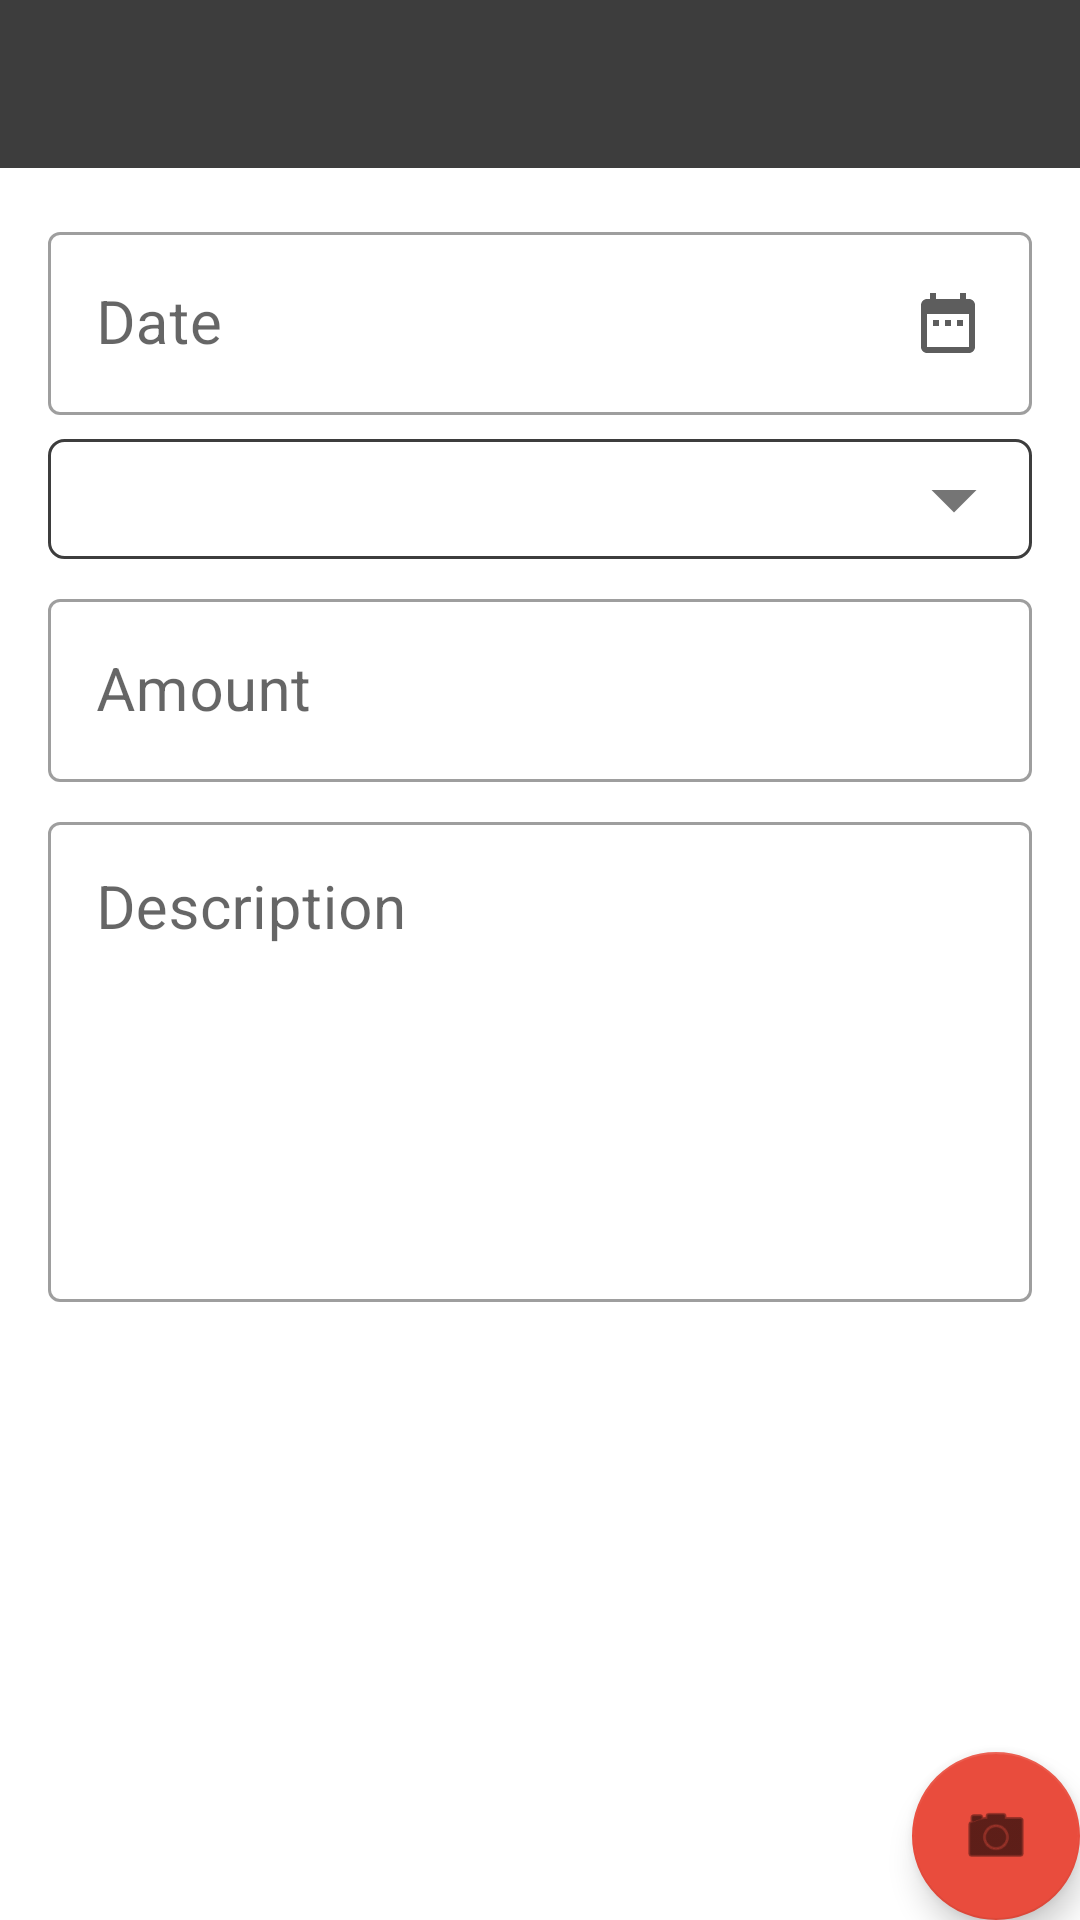

Icons on this 1080px×1920px Android screen, each with the point to tap as point (x, y):
camera: point (996, 1836)
